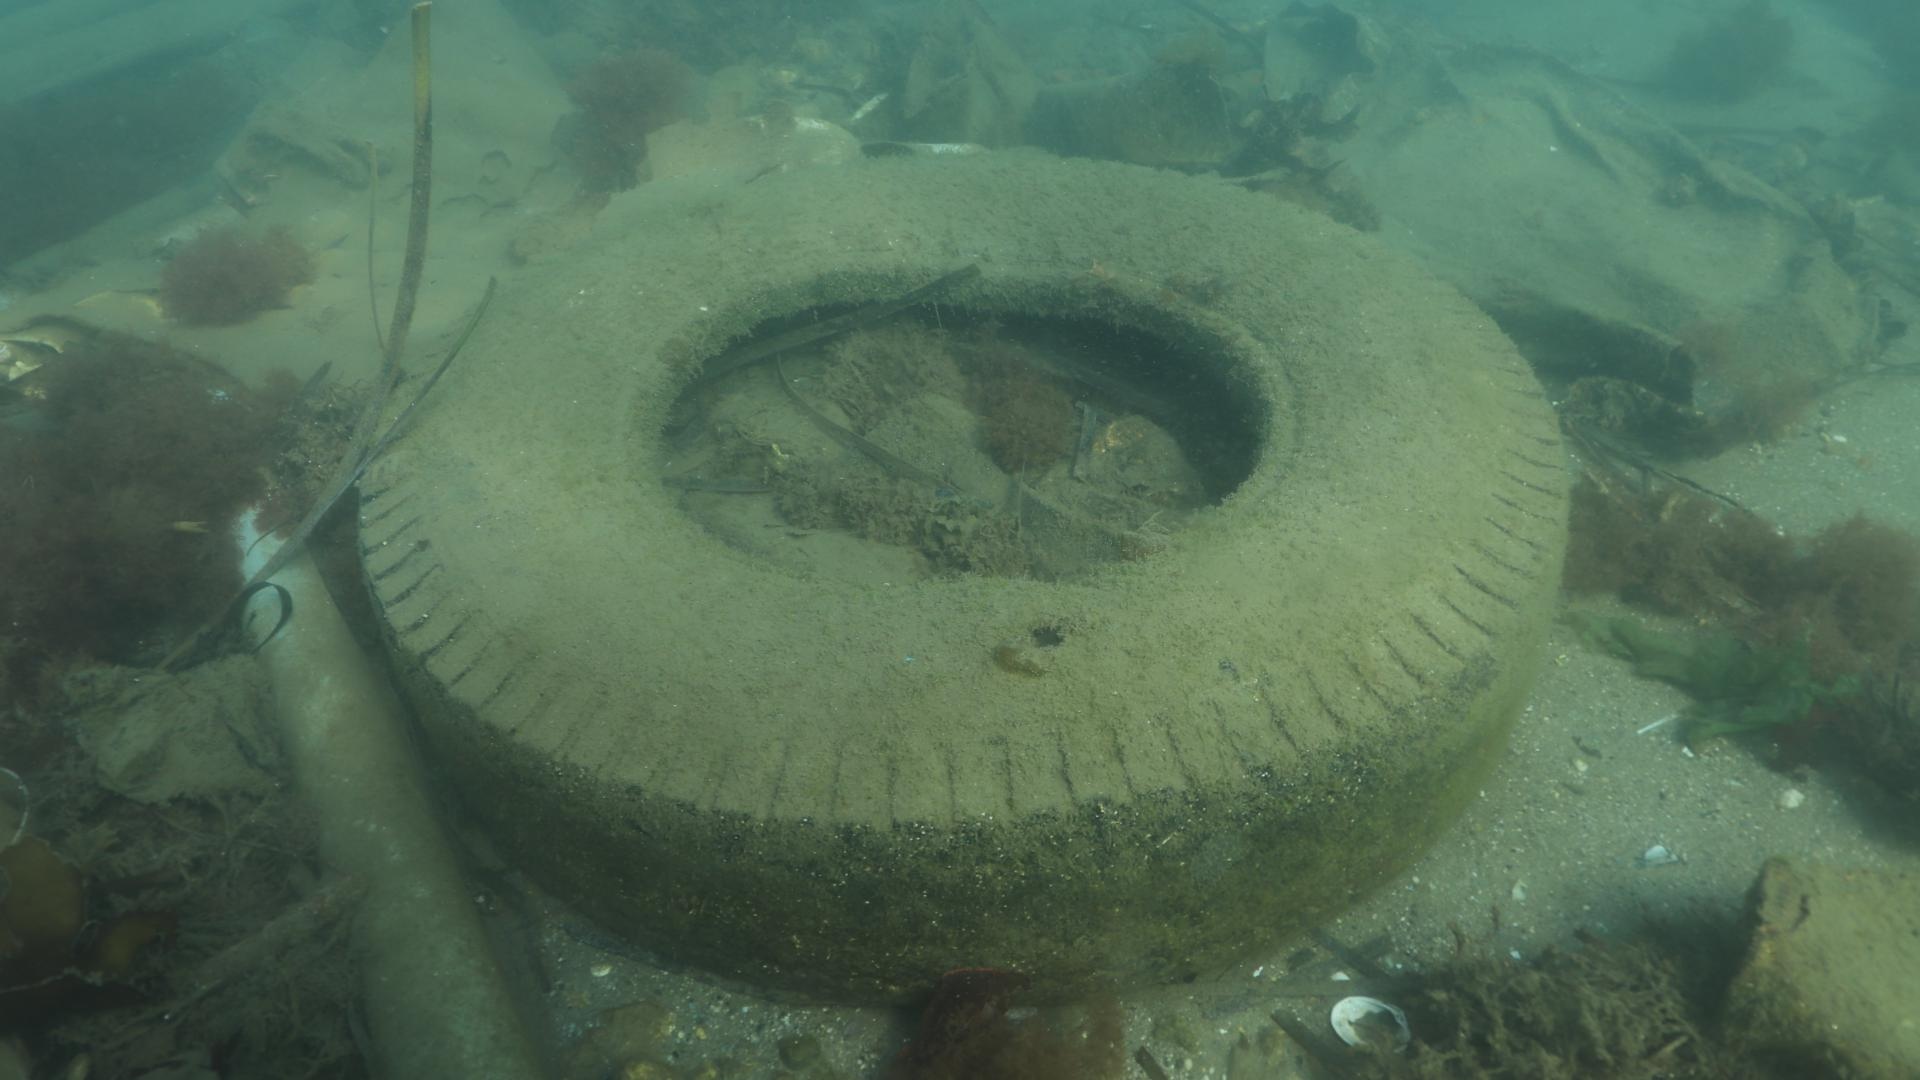tire: (355, 150, 1571, 1010)
